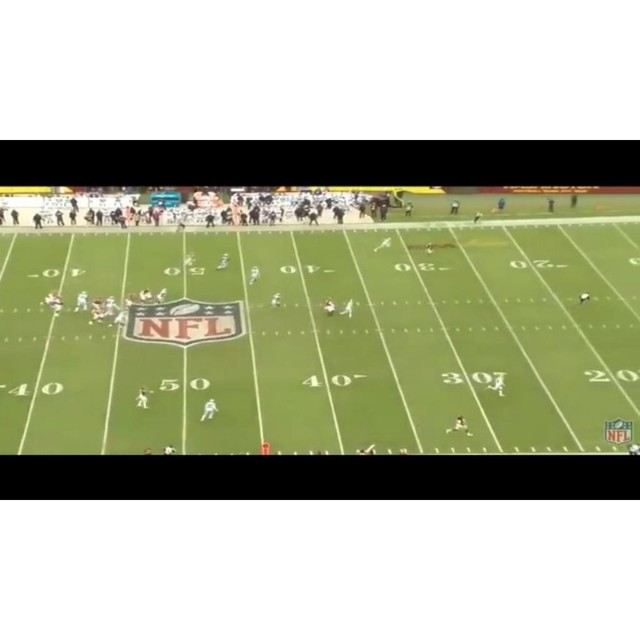american-football-player: (447, 413, 472, 437), (200, 398, 219, 423), (73, 289, 90, 314), (135, 387, 151, 411), (104, 295, 120, 318), (340, 298, 354, 319), (375, 236, 392, 253), (323, 297, 337, 317), (182, 252, 196, 271), (248, 266, 260, 286), (140, 288, 152, 305), (270, 293, 282, 309)
